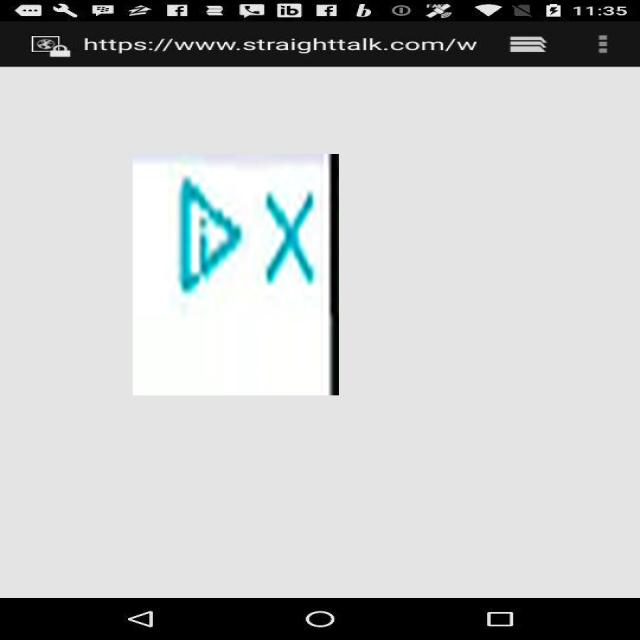sneaking: (133, 154, 339, 395)
